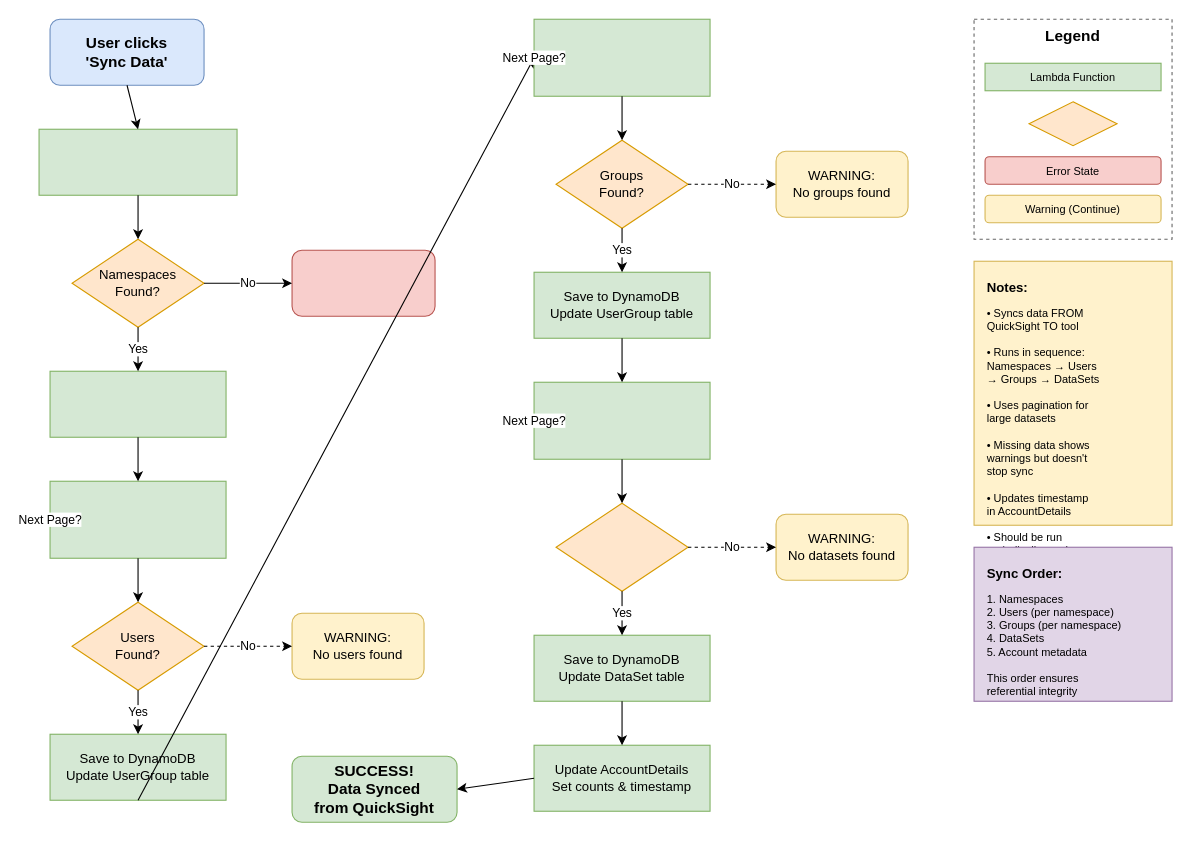
The diagram is 1191 pixels wide and 842 high, and some of its shapes have lost their labels. The centre of each missing label's shape, as x and y in pixels:
"DataSets Found?" belongs at point 621,546.
"Decision Point" belongs at point 1072,123.
"ERROR: No namespaces or access denied" belongs at point 363,282.
"fetchDataSetsFromQS List all DataSets (paginated)" belongs at point 621,420.
"fetchGroupsFromQS List all Groups (paginated)" belongs at point 621,57.
"fetchNamespacesFromQS List all QS Namespaces" belongs at point 137,161.
"fetchUsersFromQS List all Users (paginated)" belongs at point 137,519.
"Save to DynamoDB Update Namespace table" belongs at point 137,403.
